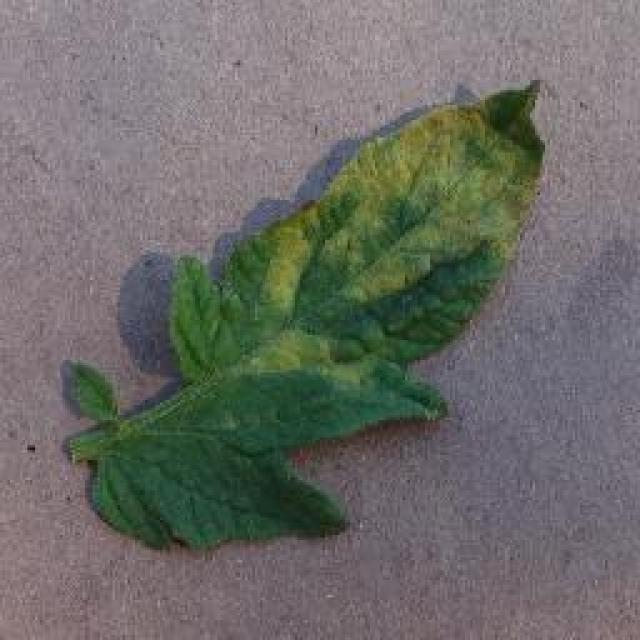leaf mold: (65, 79, 547, 549)
